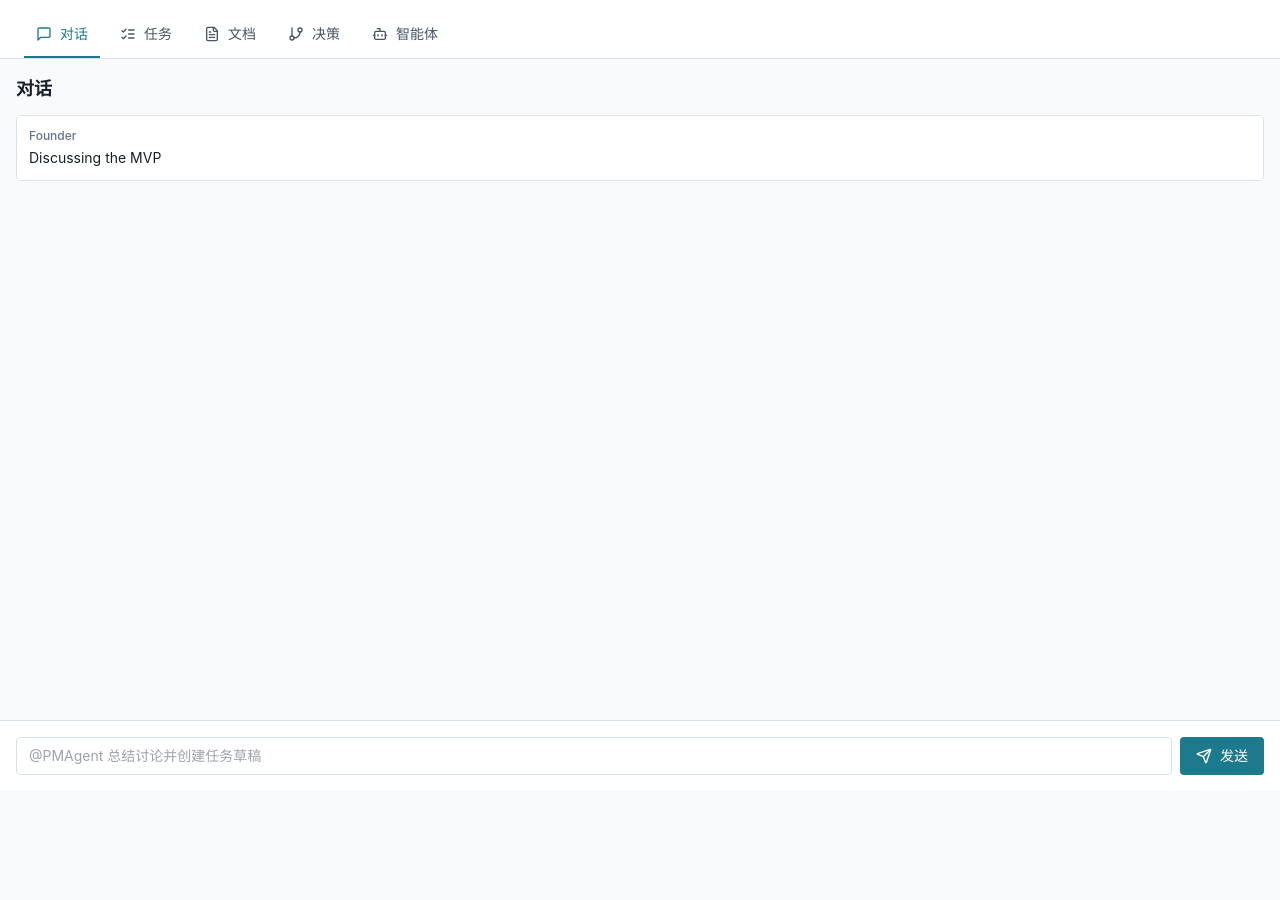
Test: RoomTabs › renders Chinese labels by default and switches work panels
The image size is (1280, 900).
Check: the heading "对话" is shown, box x1=16 y1=78 x2=52 y2=99
Check: the text "Discussing the MVP" is shown, box x1=29 y1=149 x2=161 y2=166
Click the button "任务".
click(146, 35)  # box x1=108 y1=12 x2=184 y2=58
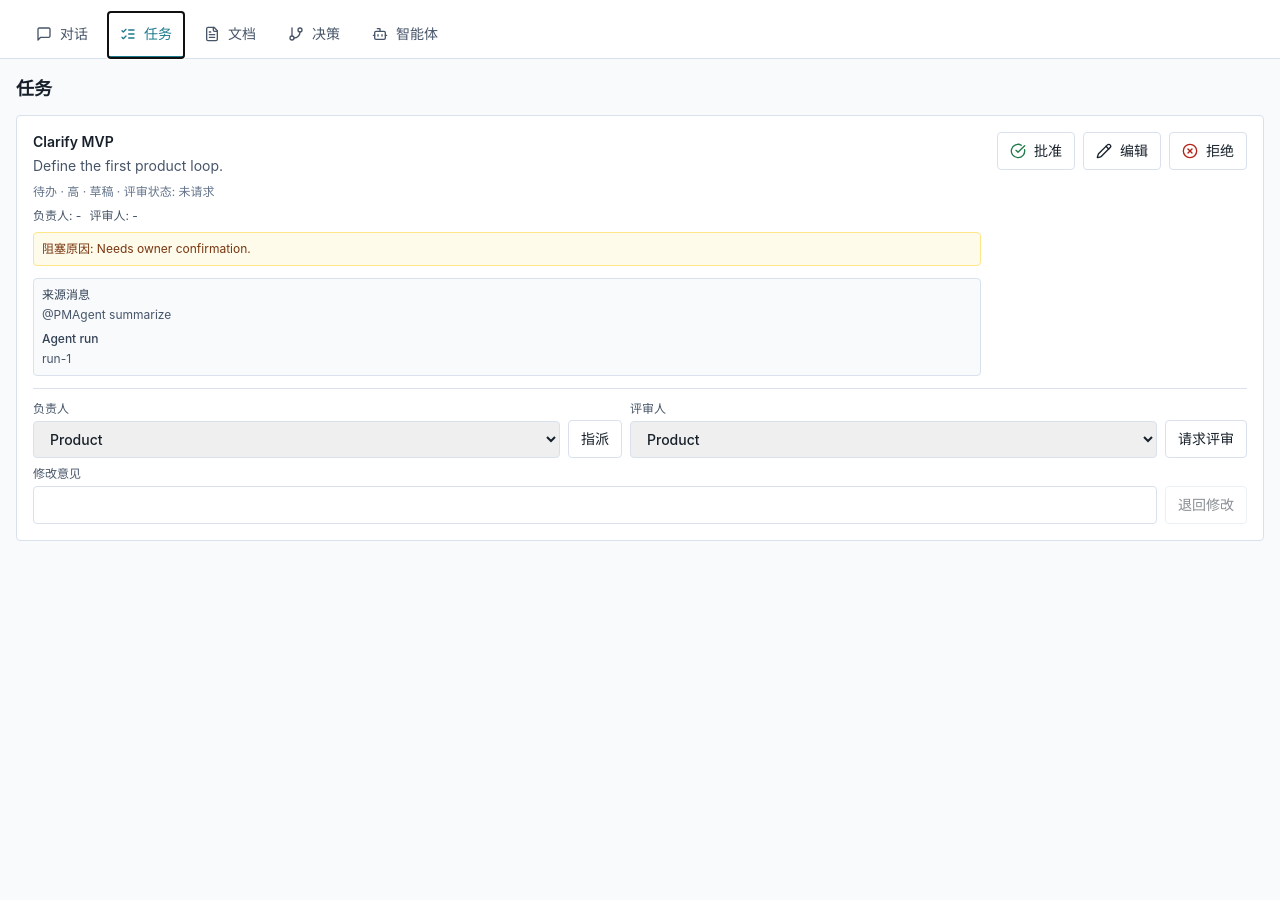
Check: the heading "任务" is shown, box x1=16 y1=78 x2=52 y2=99
Check: the text "Clarify MVP" is shown, box x1=33 y1=133 x2=114 y2=150
Check: the element "Clarify MVP" is shown, box x1=16 y1=115 x2=1264 y2=541
Click the button "文档".
click(230, 35)  # box x1=192 y1=12 x2=268 y2=58
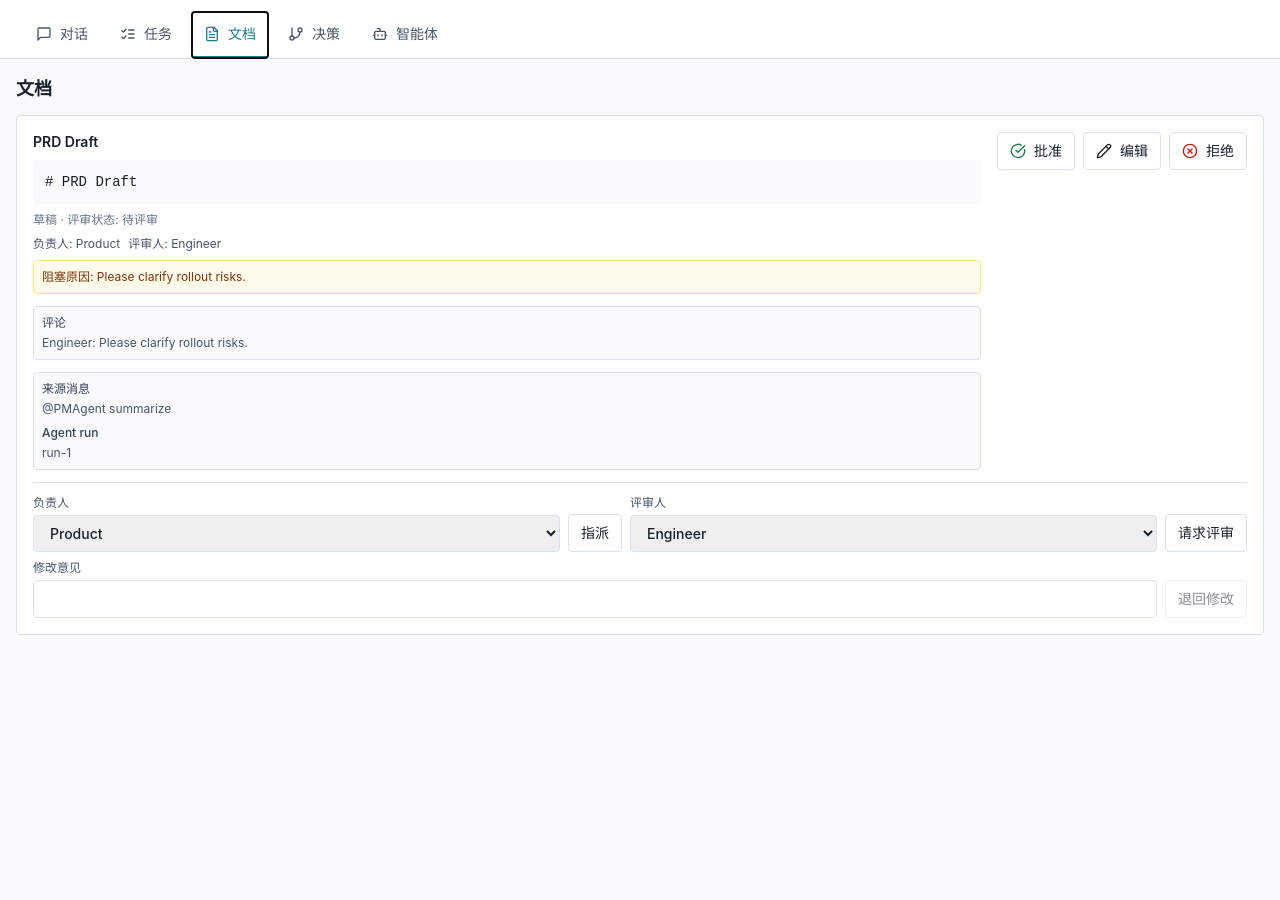
Check: the heading "文档" is shown, box x1=16 y1=78 x2=52 y2=99
Check: the text "PRD Draft" is shown, box x1=33 y1=133 x2=98 y2=150
Check: the element "PRD Draft" is shown, box x1=16 y1=115 x2=1264 y2=635
Click the button "决策".
click(314, 35)  # box x1=276 y1=12 x2=352 y2=58
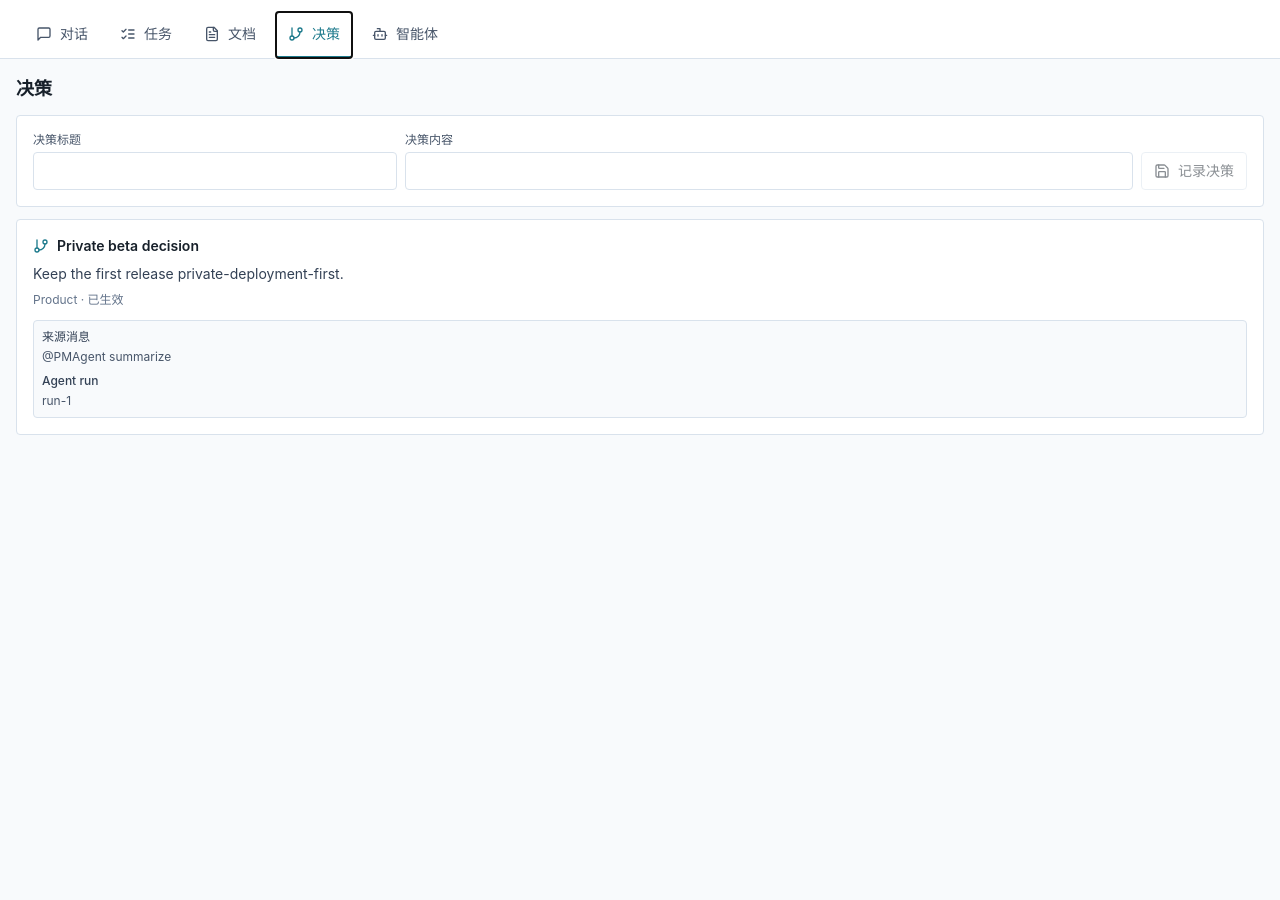
Check: the heading "决策" is shown, box x1=16 y1=78 x2=52 y2=99
Check: the element "Private beta decision" is shown, box x1=16 y1=219 x2=1264 y2=435
Check: the text "Keep the first release private-deployment-first." is shown, box x1=33 y1=265 x2=344 y2=282
Click the button "智能体".
click(405, 35)  # box x1=360 y1=12 x2=450 y2=58
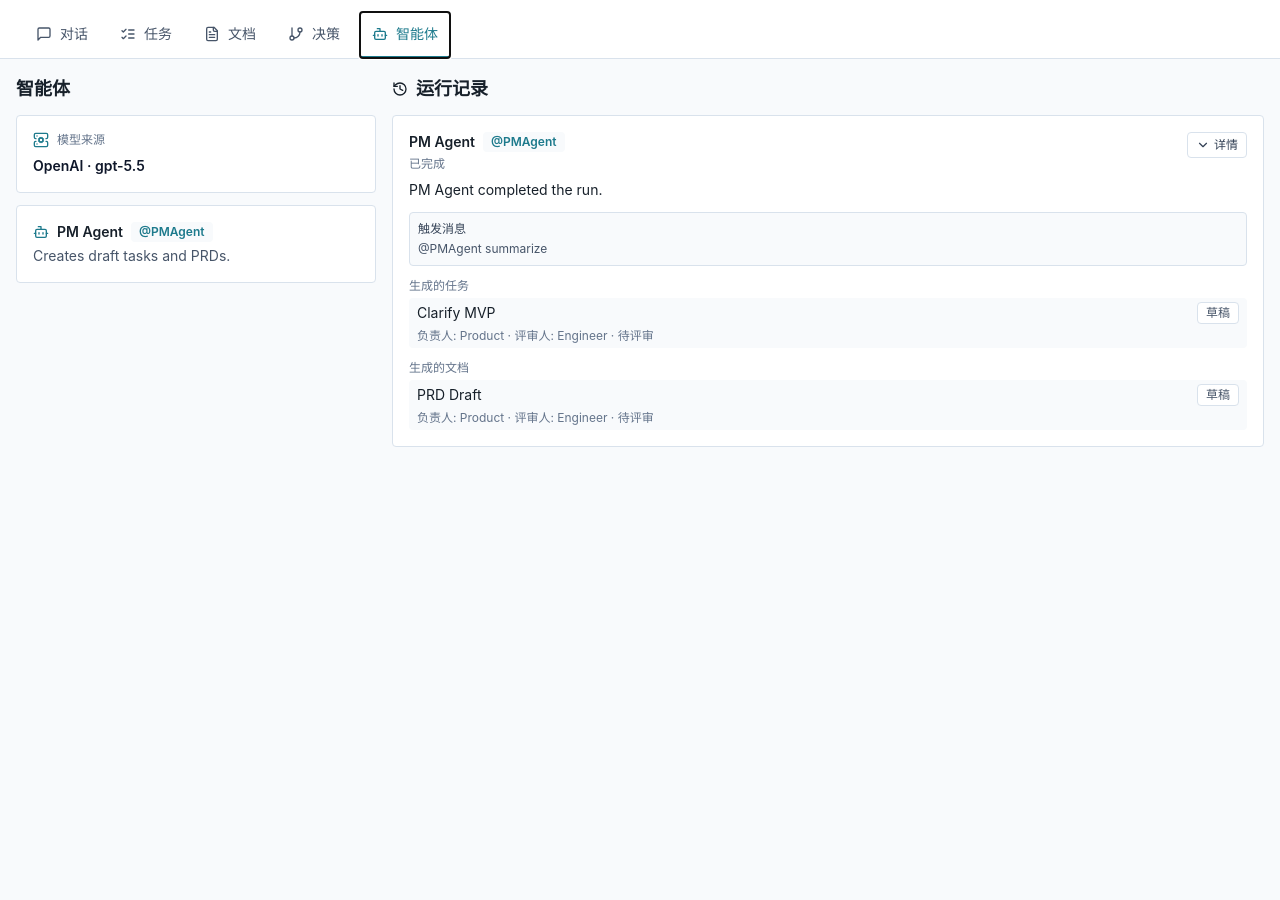
Check: the heading "智能体" is shown, box x1=16 y1=78 x2=70 y2=99
Check: the text "@PMAgent" is shown 2 times, box x1=131 y1=222 x2=212 y2=242; x1=483 y1=132 x2=564 y2=152
Check: the heading "运行记录" is shown, box x1=392 y1=78 x2=488 y2=99
Click the button "详情".
click(1217, 145)  # box x1=1187 y1=132 x2=1247 y2=158
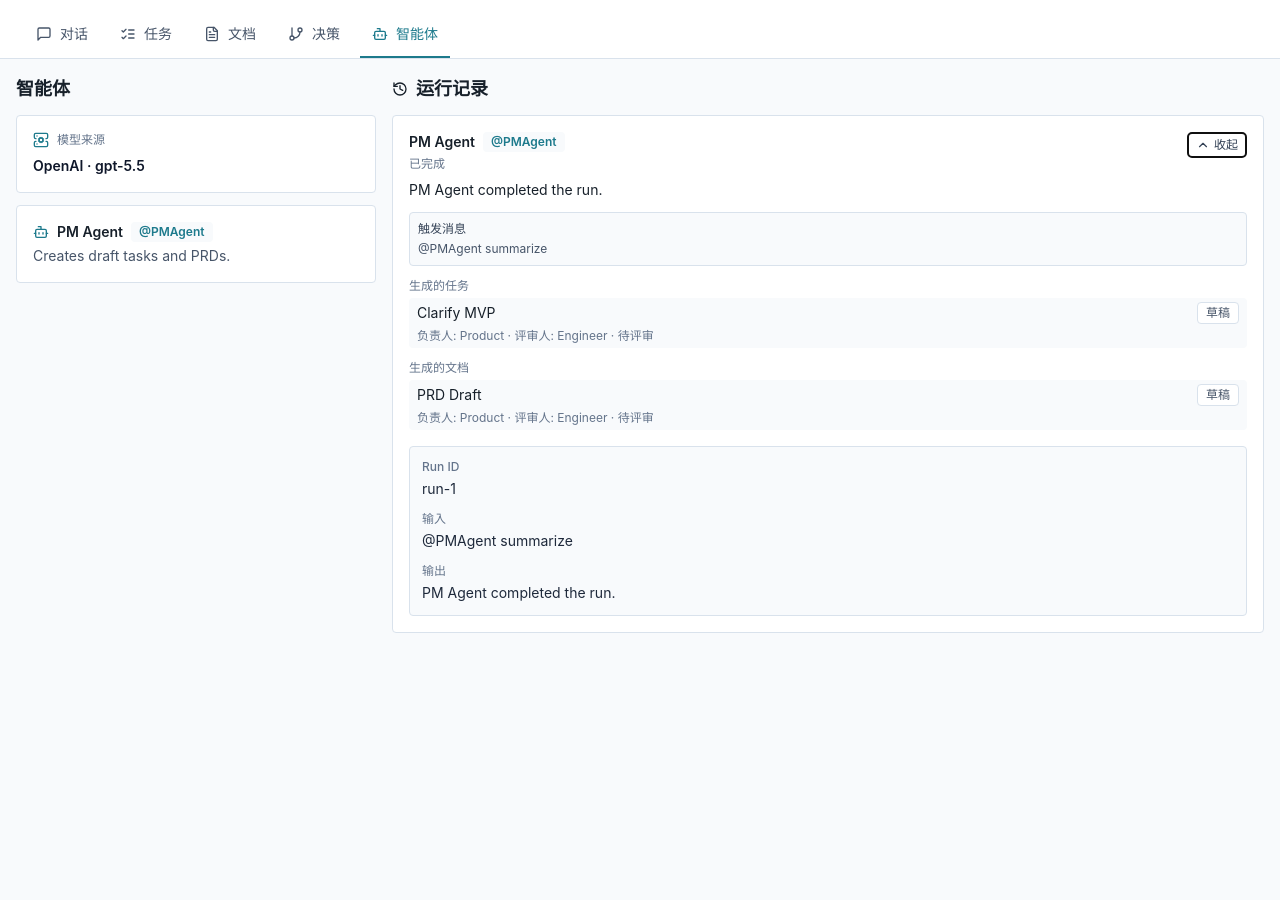
Check: the text "Run ID" is shown, box x1=422 y1=459 x2=459 y2=474
Check: the text "run-1" is shown, box x1=422 y1=480 x2=456 y2=497
Check: the text "输入" is shown, box x1=422 y1=511 x2=446 y2=526
